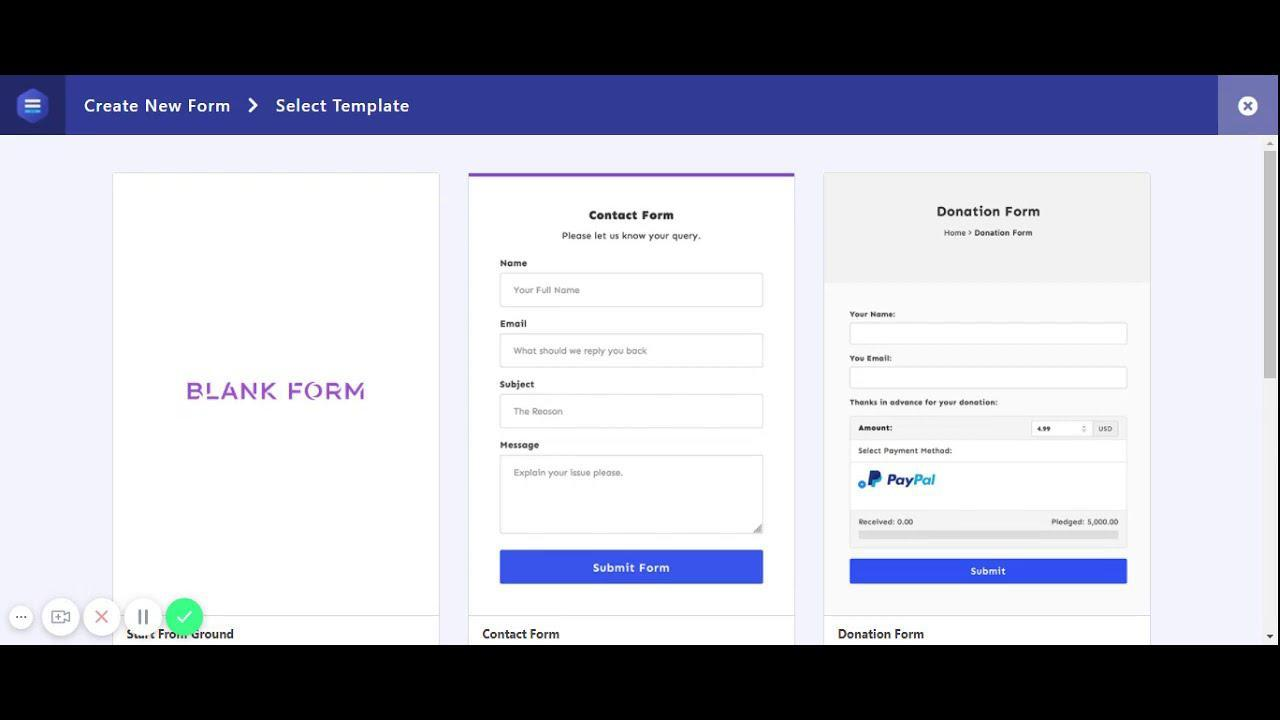button: (499, 550, 765, 587), (851, 559, 1129, 584)
dropdown: (1032, 423, 1094, 438)
input: (499, 455, 766, 536), (500, 332, 766, 371), (500, 272, 766, 309), (500, 393, 766, 430), (849, 365, 1130, 393), (849, 322, 1131, 348)
label: (498, 378, 537, 393), (849, 309, 901, 319), (849, 353, 895, 364), (500, 441, 542, 453), (498, 317, 530, 330), (498, 258, 530, 269)
